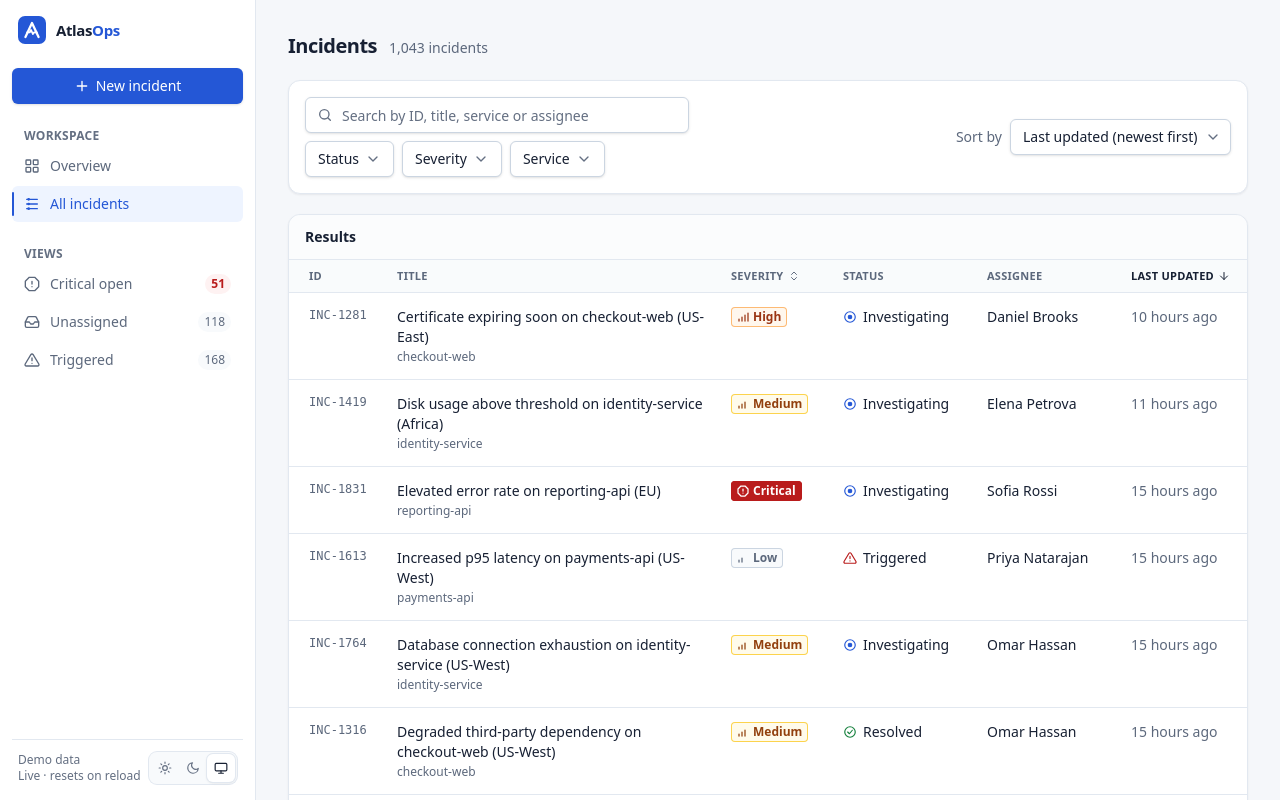
Test: Incident list page › searches after typing pauses and reflects the search in the URL
Type "maya" into the search field named "Search incidents". click: {"x": 497, "y": 115}
box: [305,97,689,133]
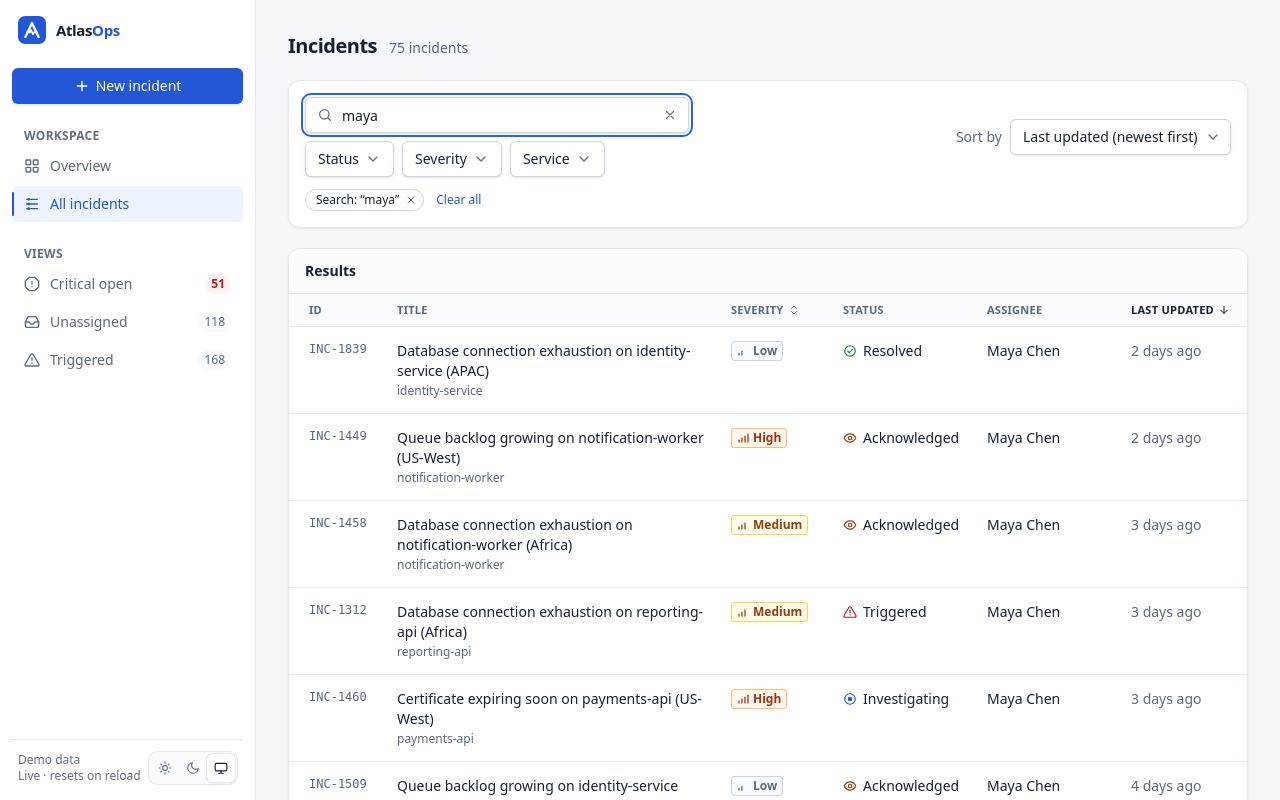
Expected: the row that starts with "INC-1839" shows "Maya Chen", [987,341,1060,360]
Expected: the row that starts with "INC-1449" shows "Maya Chen", [987,428,1060,447]
Expected: the row that starts with "INC-1458" shows "Maya Chen", [987,515,1060,534]
